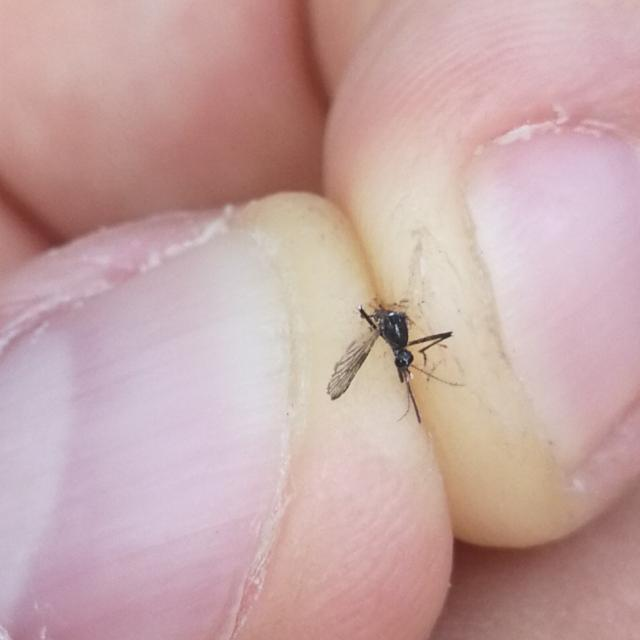albopictus: (320, 280, 462, 427)
